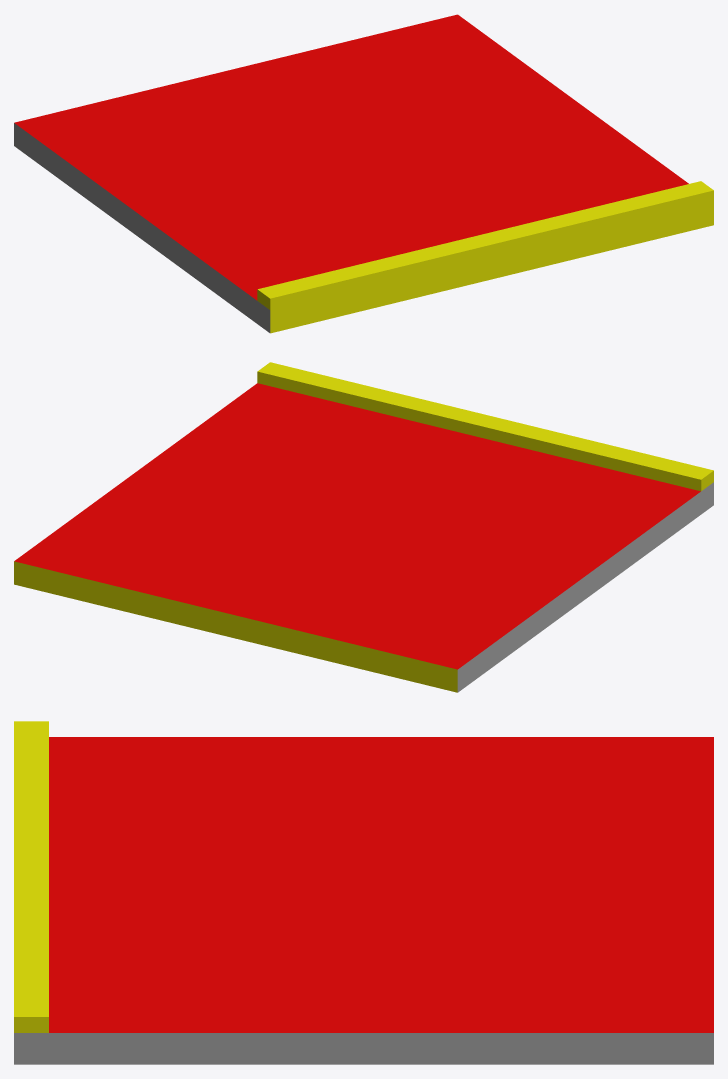
The model's file is UV_TRI_Walkway_1Rims_2x2_DTG.fbx.
3 views of the same model, one above another, from view 1: azimuth 30°, elevation 25°; view 2: azimuth 150°, elevation 25°; view 3: azimuth 270°, elevation 25° (orthographic). The views are drawn at different scales.
Visible parts, largest first — view 1: Walkway_OneRim; view 2: Walkway_OneRim; view 3: Walkway_OneRim.
Boxes of the visible parts, x1=… form: Walkway_OneRim: x1=14, y1=14, x2=713, y2=333; Walkway_OneRim: x1=14, y1=362, x2=713, y2=692; Walkway_OneRim: x1=14, y1=721, x2=713, y2=1064.
Size of the model in its own units: 2 by 0.15 by 2.
